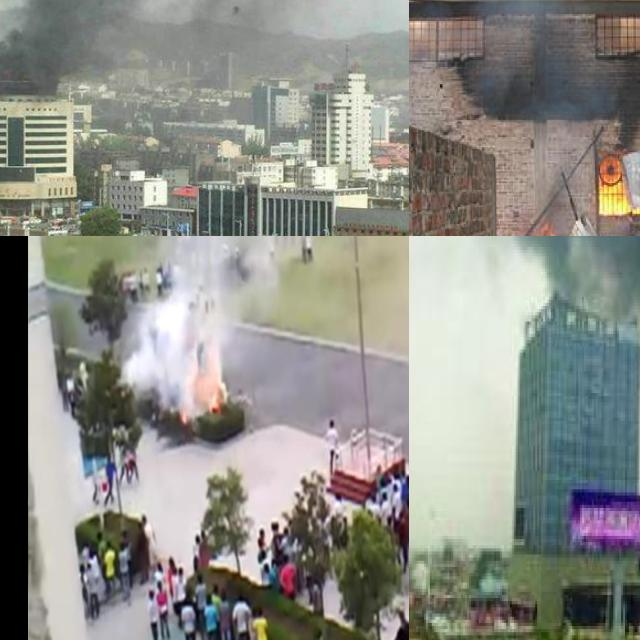fire: (598, 156, 626, 212), (192, 367, 224, 411), (505, 225, 555, 236)
smoke: (409, 236, 640, 518), (0, 0, 381, 91), (123, 236, 319, 403)
